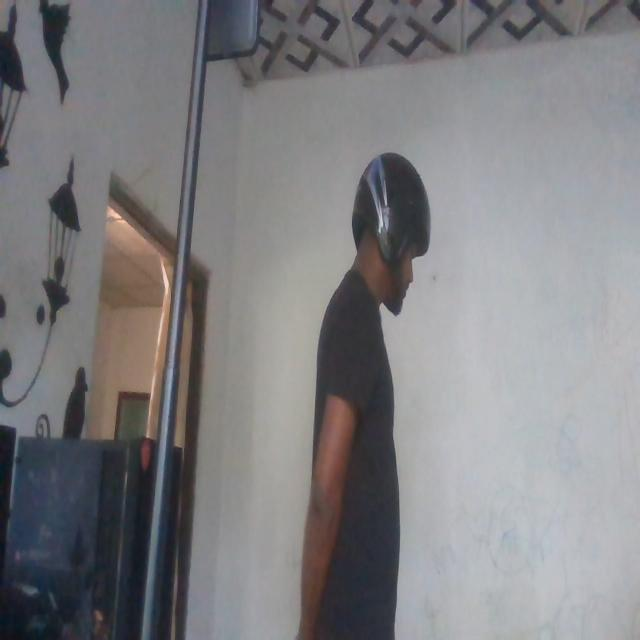Helmet_Wearer: (333, 141, 433, 338)
Person: (289, 144, 433, 640)
